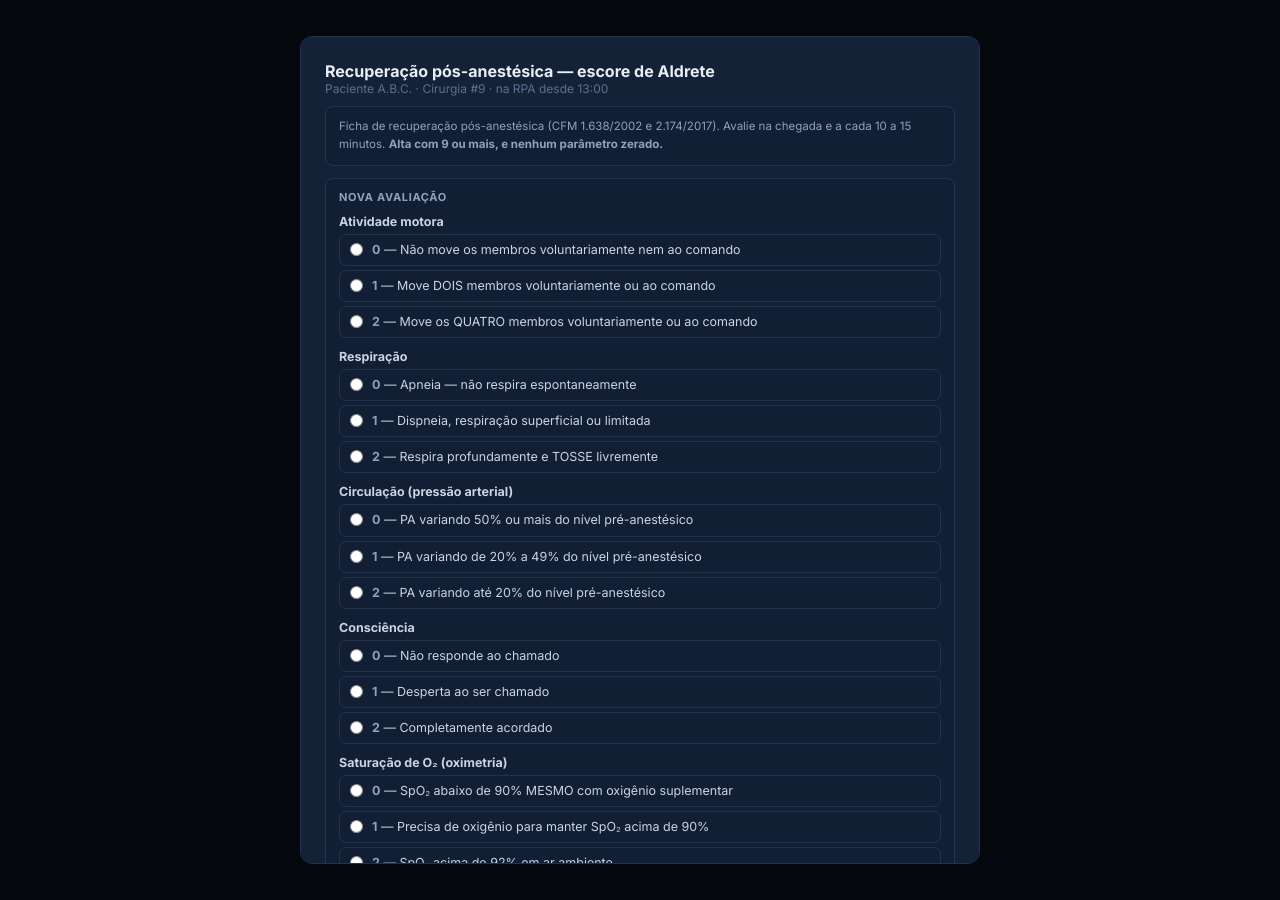
it: 🔴 o modal da recuperação › registrar avaliação só liga com os cinco parâmetros pontuados
The width and height of the screenshot is (1280, 900).
What coordinates should you click on to do the following:
click the radio button labelled "0 — Não move os membros voluntariamente nem ao comando"
I would click on:
 (356, 249)
Its box is left=350, top=243, right=363, bottom=256.
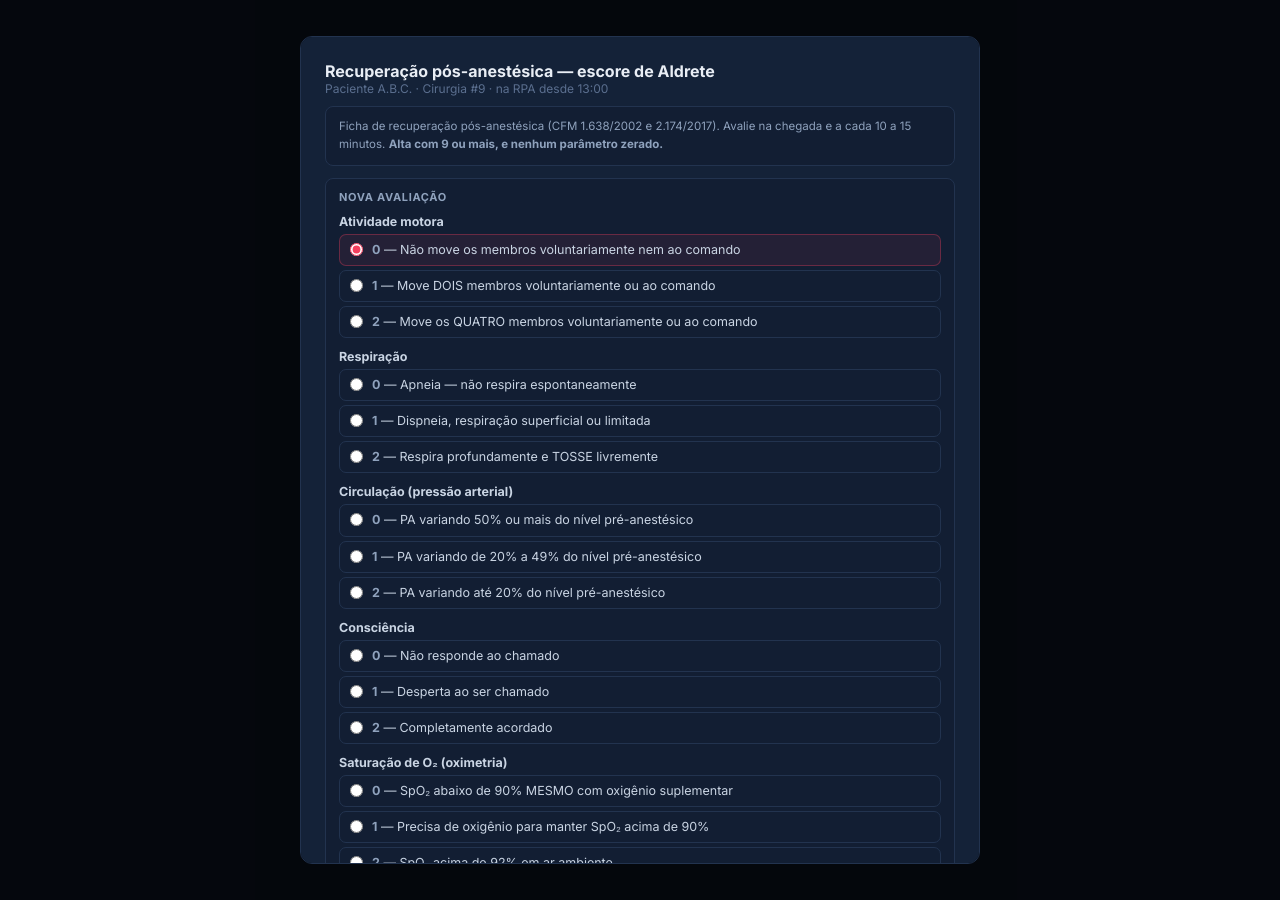
What coordinates should you click on to do the following:
click the radio button labelled "0 — Apneia — não respira espontaneamente"
I would click on:
 (356, 384)
Its box is left=350, top=378, right=363, bottom=391.
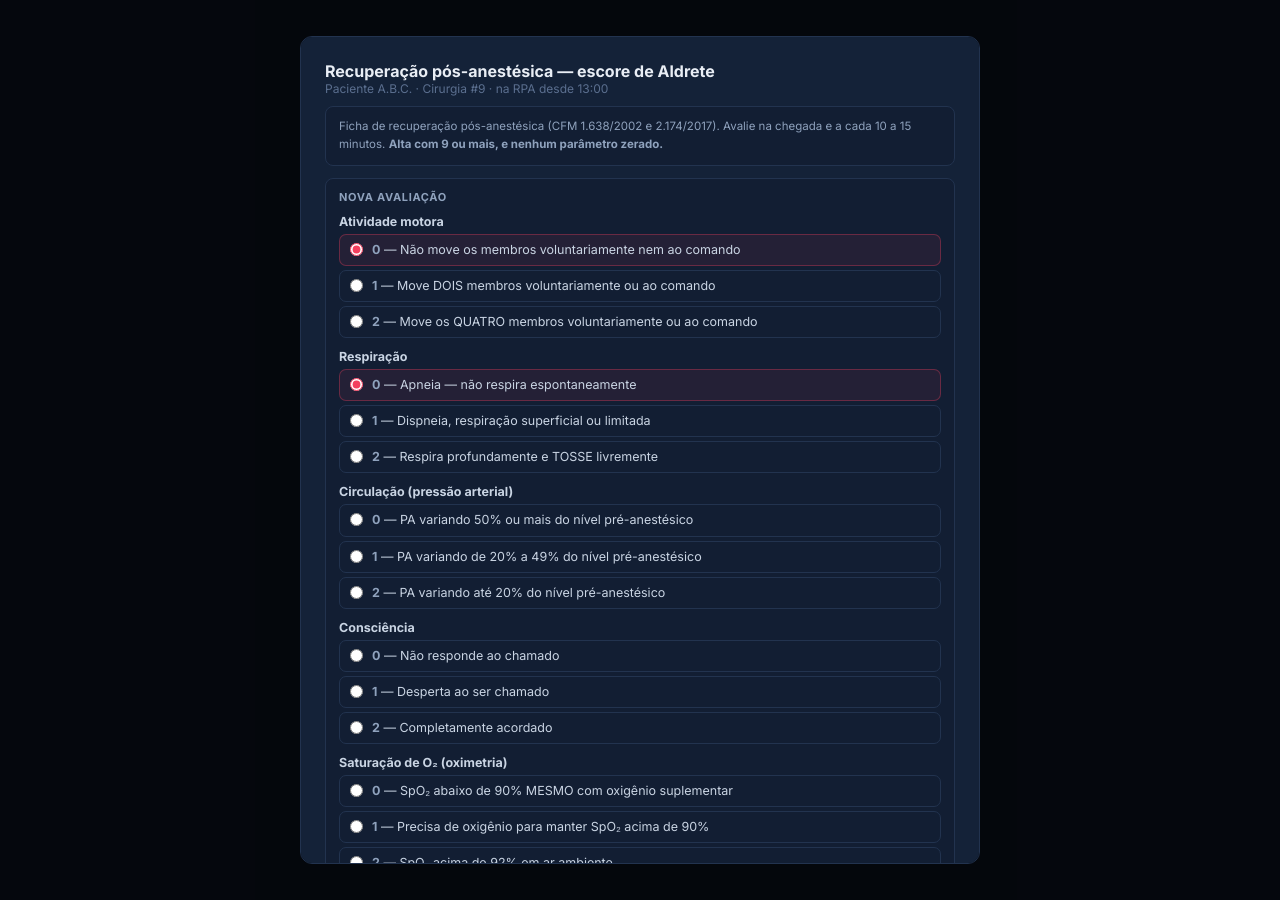
What coordinates should you click on to do the following:
click the radio button labelled "0 — PA variando 50% ou mais do nível pré-anestésico"
I would click on:
 (356, 520)
Its box is left=350, top=513, right=363, bottom=526.
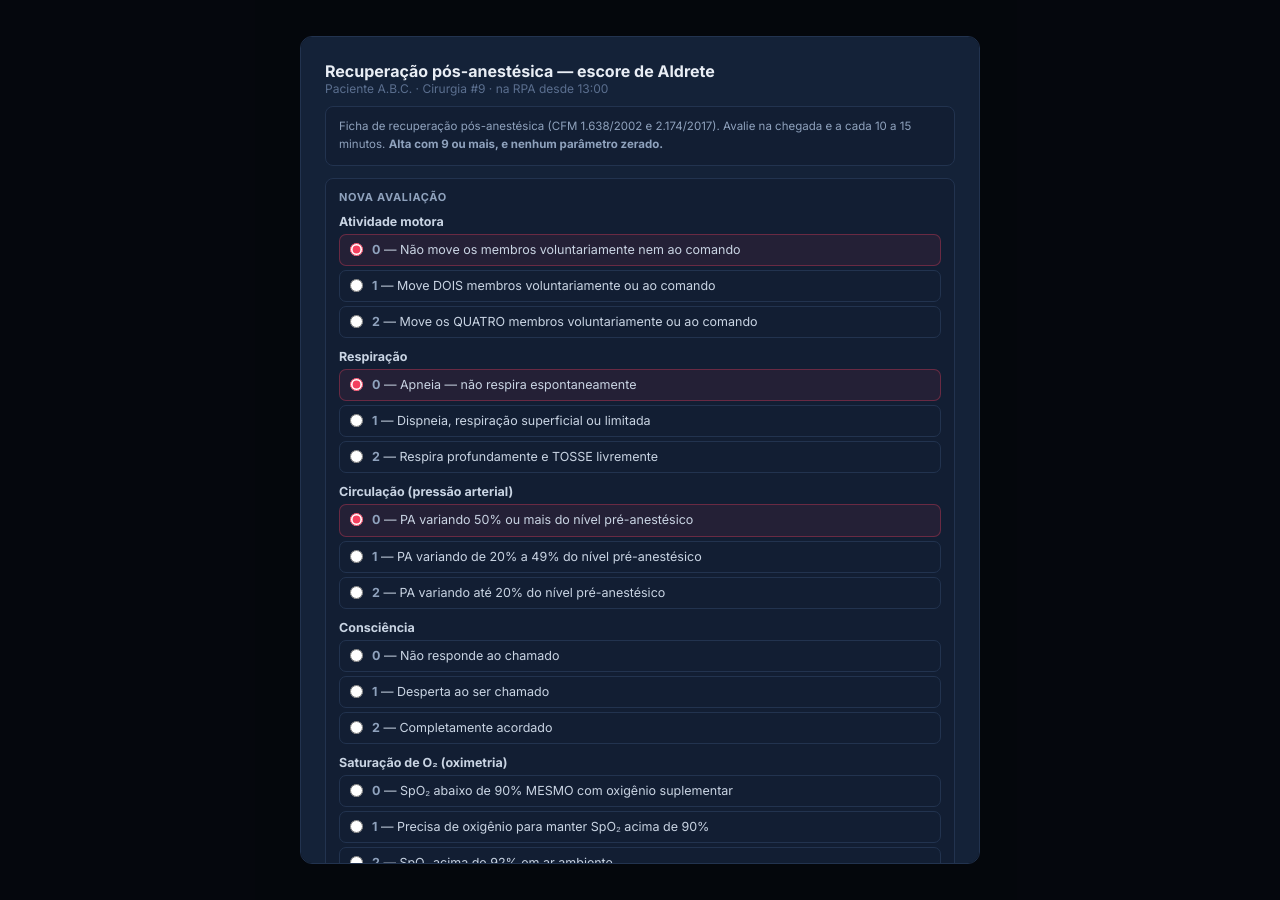
What coordinates should you click on to do the following:
click the radio button labelled "0 — Não responde ao chamado"
I would click on:
 (356, 655)
Its box is left=350, top=649, right=363, bottom=662.
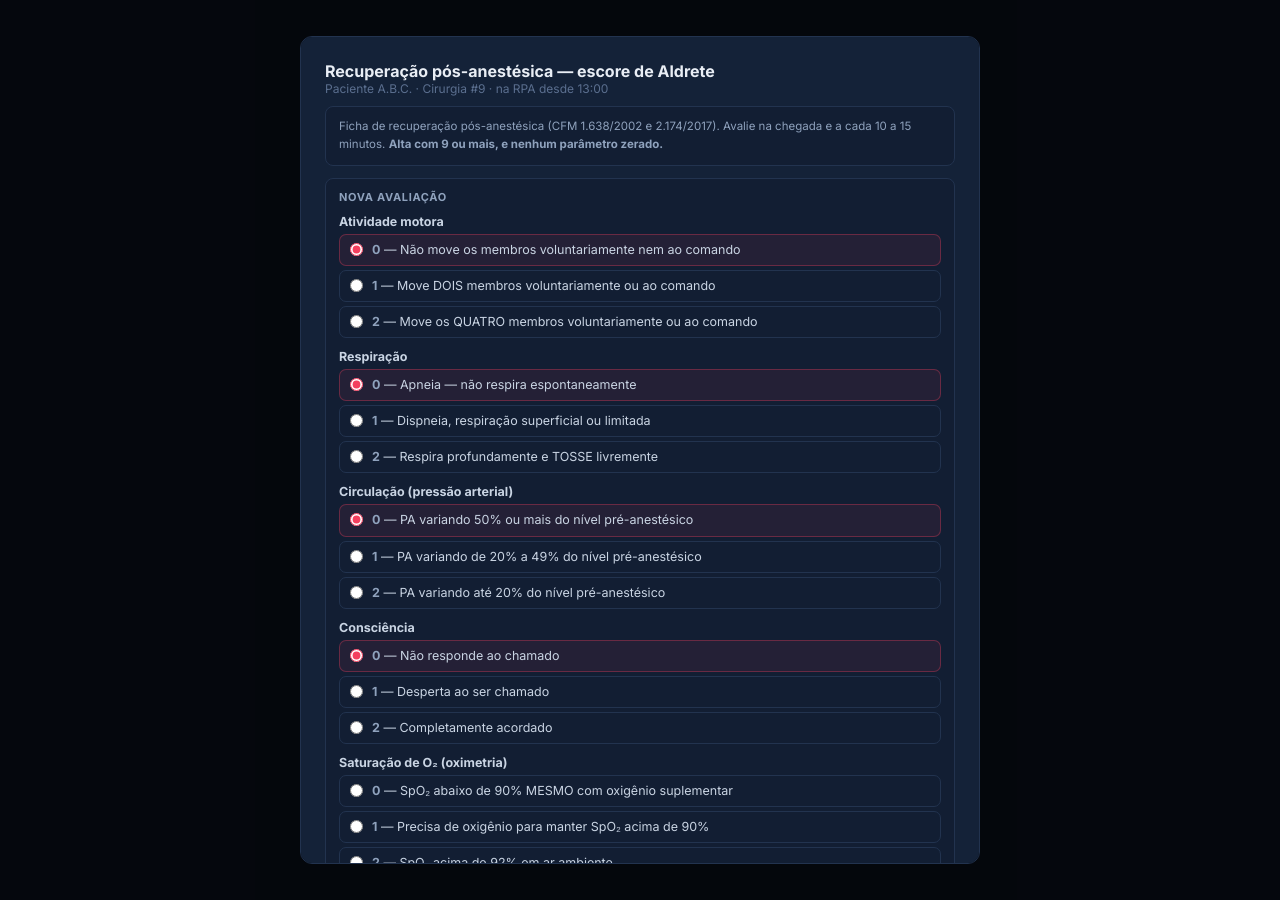
What coordinates should you click on to do the following:
click the radio button labelled "0 — SpO₂ abaixo de 90% MESMO com oxigênio suplementar"
I would click on:
 (356, 791)
Its box is left=350, top=784, right=363, bottom=797.
(page scrolled)
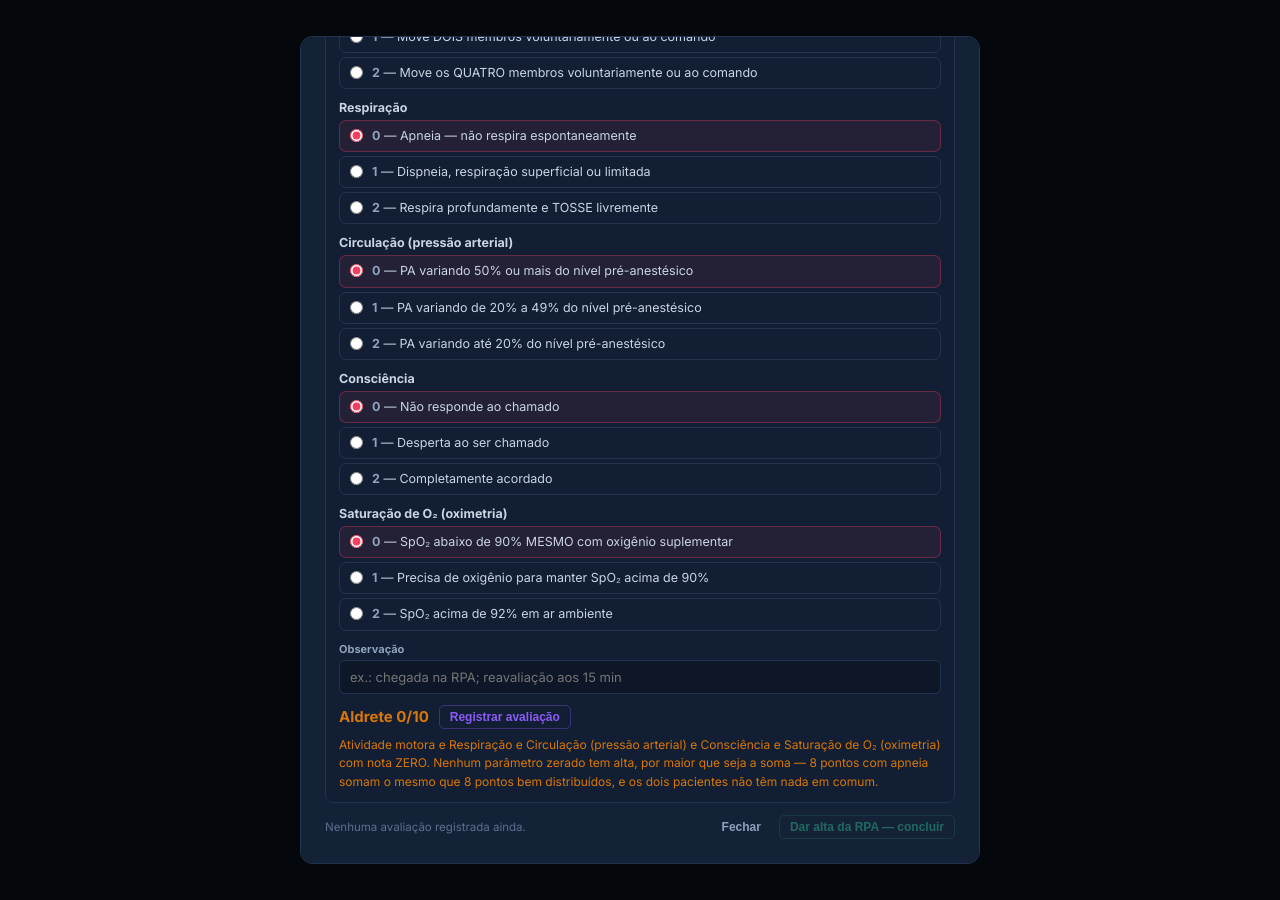
Expected: the button "Registrar avaliação" is enabled, left=439, top=704, right=571, bottom=728
